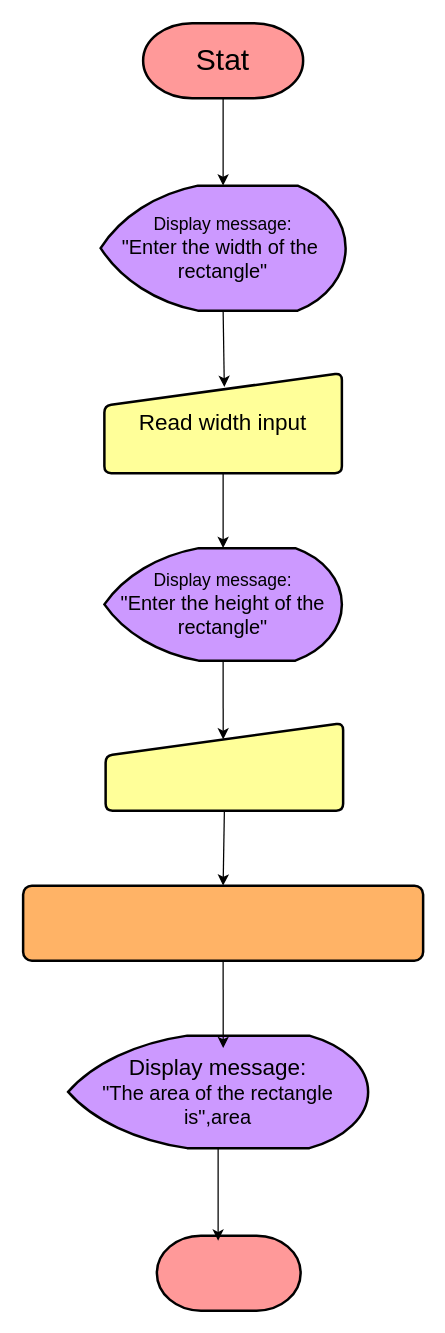
Image size: 445x1333. Some labels were removed from this diagram. Each missing label, with the box of its shape:
Calculate area:area = width * height: (21, 884, 424, 961)
End: (155, 1234, 301, 1311)
Read height input: (104, 721, 344, 811)
